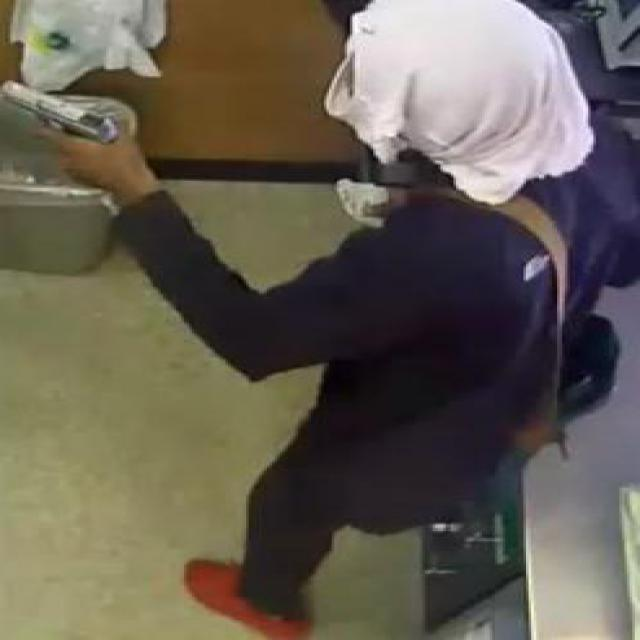Gun: (5, 74, 124, 174)
